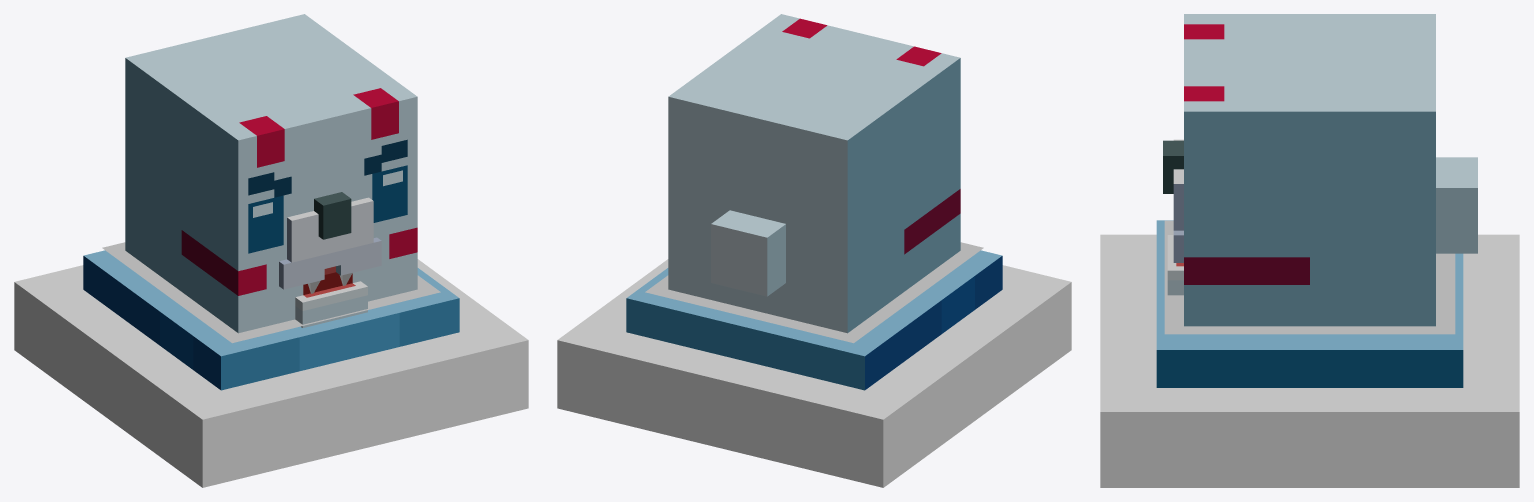
The model's file is Tower_Polar_L2.fbx.
3 renders of one model, left to right at view 1: azimuth 30°, elevation 25°; view 2: azimuth 150°, elevation 25°; view 3: azimuth 270°, elevation 25°, orthographic. The views are drawn at different scales.
Visible parts, largest first — view 1: Body, Base, Platform, Shadow, Jaw; view 2: Body, Base, Platform, Shadow; view 3: Body, Base, Platform, Shadow, Jaw.
Part boxes in pixels (x1,y1,x2,y2): Body: (125,14,417,333); Base: (14,259,528,487); Platform: (83,250,459,390); Shadow: (102,242,440,343); Jaw: (295,281,367,327); Body: (668,14,960,333); Base: (557,259,1071,487); Platform: (626,250,1002,390); Shadow: (645,242,983,343); Body: (1163,14,1477,326); Base: (1100,234,1519,487); Platform: (1156,220,1463,387); Shadow: (1164,220,1455,334); Jaw: (1167,235,1183,295).
Bounding box in the file's own units: 100 × 88.5 × 100.
